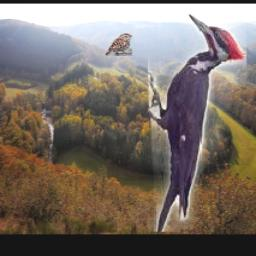Sparrow: (106, 34, 132, 57)
Woodpecker: (148, 12, 246, 232)
